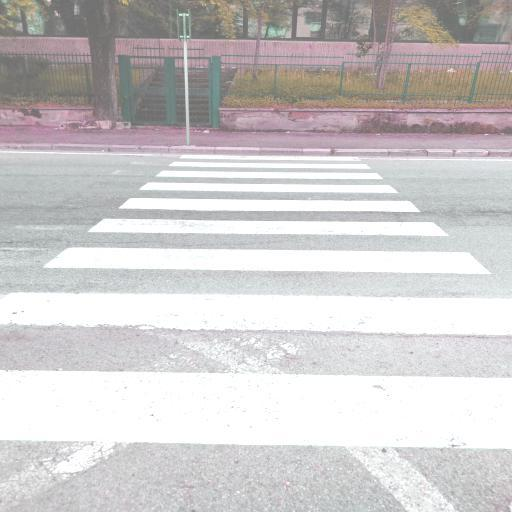crosswalk: (0, 242, 512, 344), (114, 182, 428, 216)
